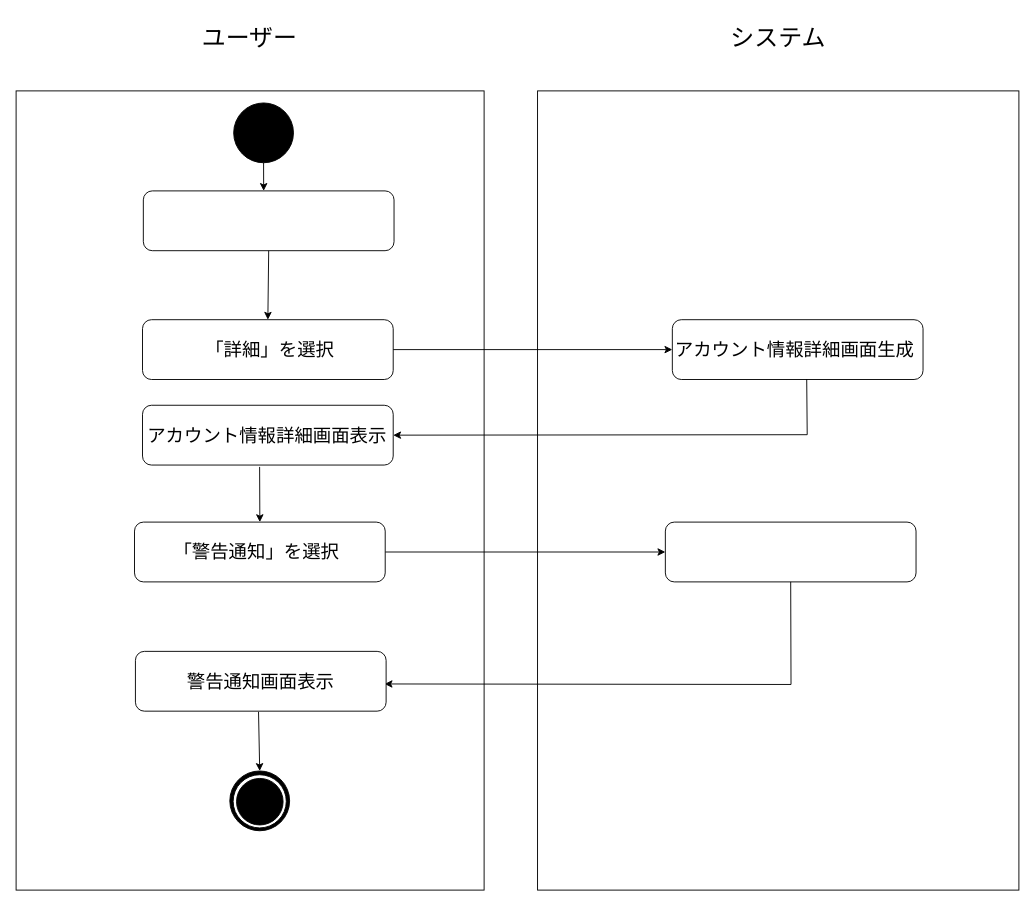
Image size: 1035x906. Some labels were removed from this diagram. The centre of each missing label's shape, as x and y in pixels:
警告通知画面生成: the point at 790,551
配達員アカウント一覧画面表示: the point at 268,220
